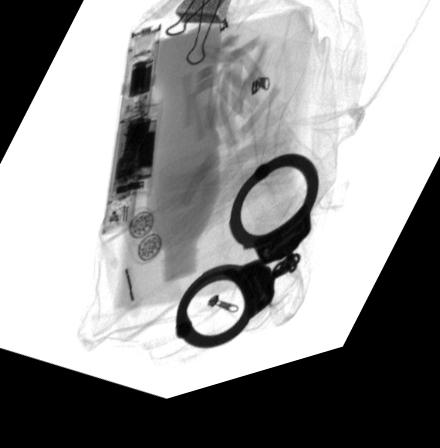Baton: (100, 32, 164, 242)
HandCuffs: (174, 169, 321, 362)
